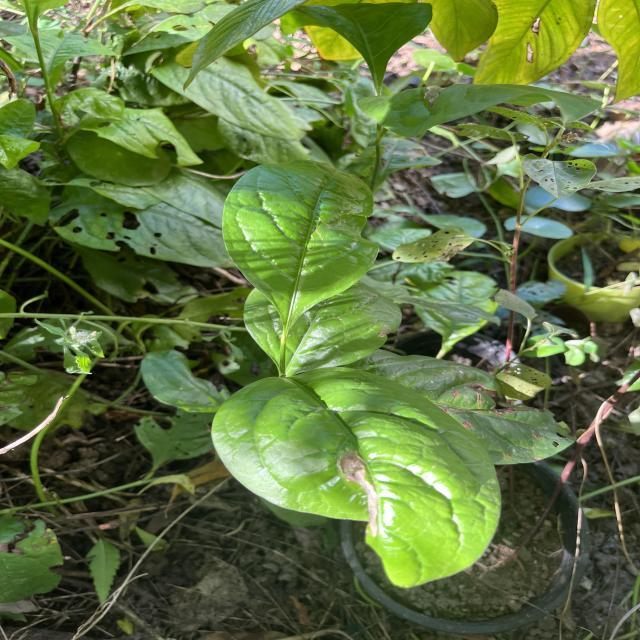Plumbago indica: (208, 364, 504, 591), (220, 157, 383, 336)
